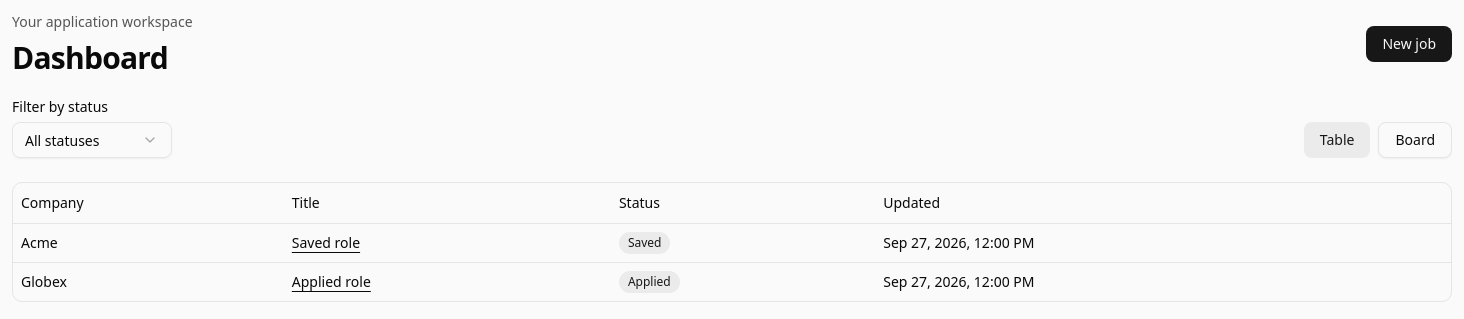
Test: Dashboard › sends the status filter to the API
Expected: the link "Saved role" is shown, [292,232,360,252]
Select "Applied" in the dropdown labelled "Filter by status" at (92, 140), box [12,122,172,158]
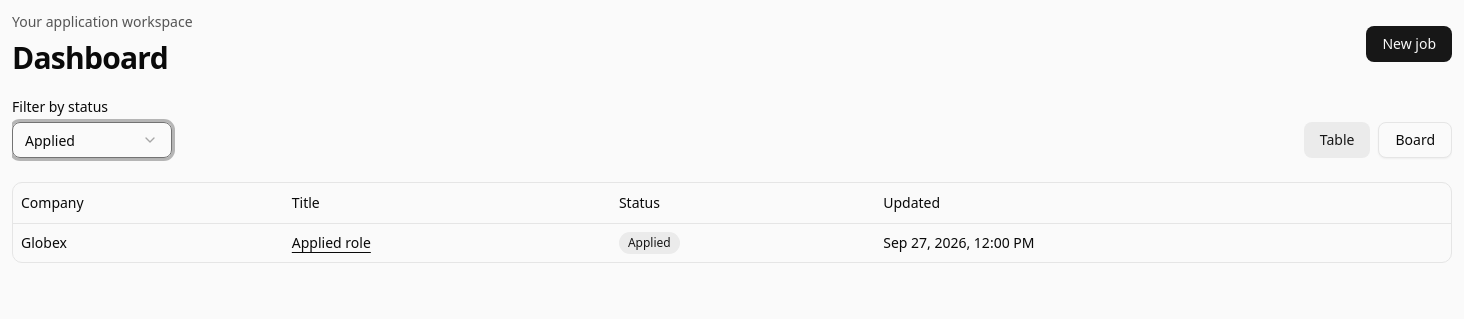
Expected: the link "Applied role" is shown, [292,232,371,252]
Result: the link "Saved role" is gone
